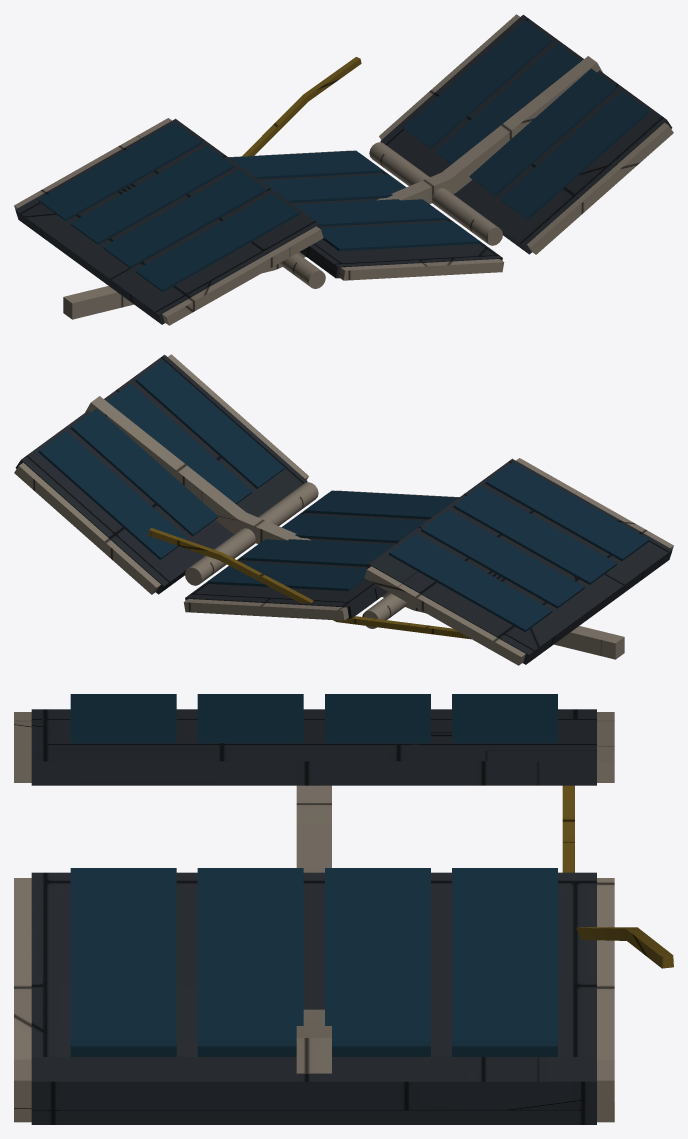
File: cargo-buckled-solar-wing_lod1.glb
3 renders of one model, top to bottom at view 1: azimuth 30°, elevation 25°; view 2: azimuth 150°, elevation 25°; view 3: azimuth 270°, elevation 25°, orthographic. The views are drawn at different scales.
Visible parts, largest first — view 1: LOD1_CANOPY, LOD1_Armor, LOD1_BrushedMetal, LOD1_Livery; view 2: LOD1_CANOPY, LOD1_Armor, LOD1_BrushedMetal, LOD1_Livery; view 3: LOD1_CANOPY, LOD1_Armor, LOD1_BrushedMetal, LOD1_Livery.
Boxes of the visible parts, bbox=[...] form: LOD1_CANOPY: bbox=[38, 20, 649, 291]; LOD1_Armor: bbox=[15, 14, 672, 324]; LOD1_BrushedMetal: bbox=[14, 14, 673, 325]; LOD1_Livery: bbox=[242, 57, 361, 156]; LOD1_CANOPY: bbox=[38, 360, 649, 631]; LOD1_Armor: bbox=[15, 354, 672, 664]; LOD1_BrushedMetal: bbox=[14, 354, 673, 665]; LOD1_Livery: bbox=[148, 527, 471, 639]; LOD1_CANOPY: bbox=[70, 694, 557, 1056]; LOD1_Armor: bbox=[31, 709, 596, 1124]; LOD1_BrushedMetal: bbox=[14, 712, 614, 1122]; LOD1_Livery: bbox=[562, 785, 673, 968].
Size of the model in its own units: 3.43 by 0.7942 by 1.87.
4 materials, 3 textured.
